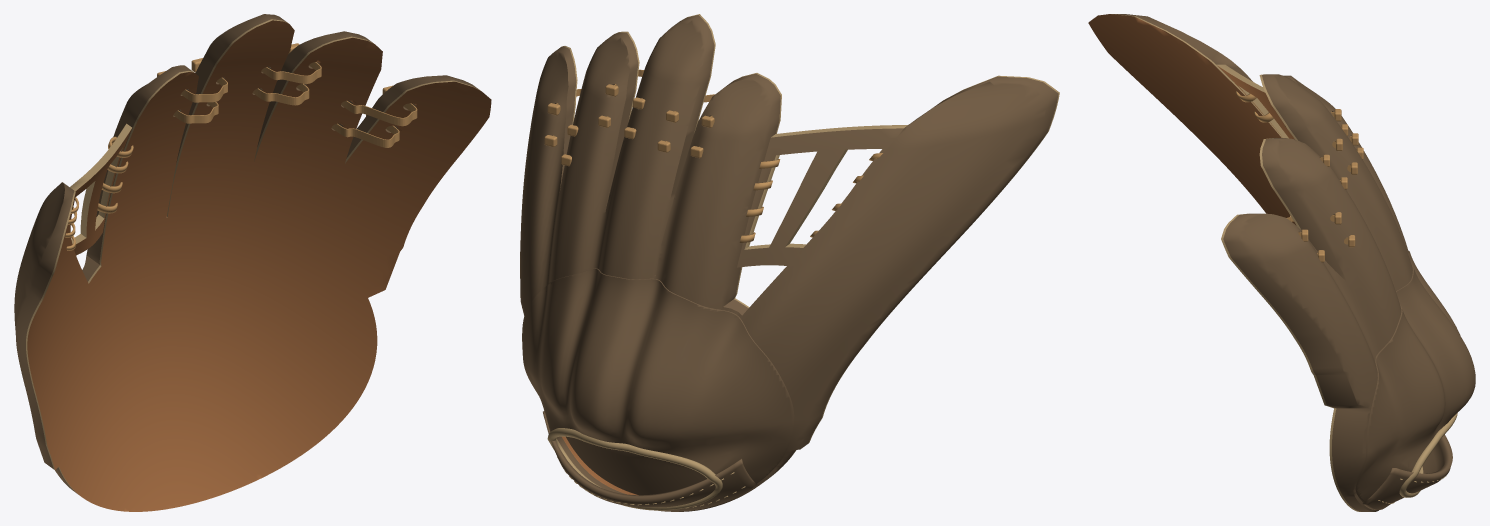
3 renders of one model, left to right at view 1: azimuth 30°, elevation 25°; view 2: azimuth 150°, elevation 25°; view 3: azimuth 270°, elevation 25°, orthographic. The views are drawn at different scales.
Parts seen in each view (by area): view 1: Continuous leather palm thumb and four finger panel, Complete open two-window I web, Complete flat finger crosslace 2 1, Complete flat finger crosslace 2 0, Complete flat finger crosslace 1 1, Complete flat finger crosslace 1 0; view 2: Continuous leather palm thumb and four finger panel, Complete hollow back hood, Complete open two-window I web, Complete curved cuff band, Complete bound oval wrist opening; view 3: Continuous leather palm thumb and four finger panel, Complete hollow back hood, Complete curved cuff band, Complete open two-window I web, Complete bound oval wrist opening.
Boxes of the visible parts, x1,y1,x2,y2 form: Continuous leather palm thumb and four finger panel: (14, 14, 491, 511); Complete open two-window I web: (70, 123, 131, 255); Complete flat finger crosslace 2 1: (341, 101, 417, 126); Complete flat finger crosslace 2 0: (331, 123, 399, 147); Complete flat finger crosslace 1 1: (261, 62, 321, 83); Complete flat finger crosslace 1 0: (252, 83, 309, 105); Continuous leather palm thumb and four finger panel: (520, 14, 1059, 511); Complete hollow back hood: (522, 268, 794, 495); Complete open two-window I web: (737, 124, 908, 267); Complete curved cuff band: (543, 410, 757, 511); Complete bound oval wrist opening: (547, 428, 722, 510); Continuous leather palm thumb and four finger panel: (1088, 14, 1412, 511); Complete hollow back hood: (1355, 251, 1475, 502); Complete curved cuff band: (1362, 434, 1452, 509); Complete open two-window I web: (1216, 64, 1294, 139); Complete bound oval wrist opening: (1399, 412, 1457, 497).
Bounding box in the file's own units: 20.79 × 20.2 × 16.64.
